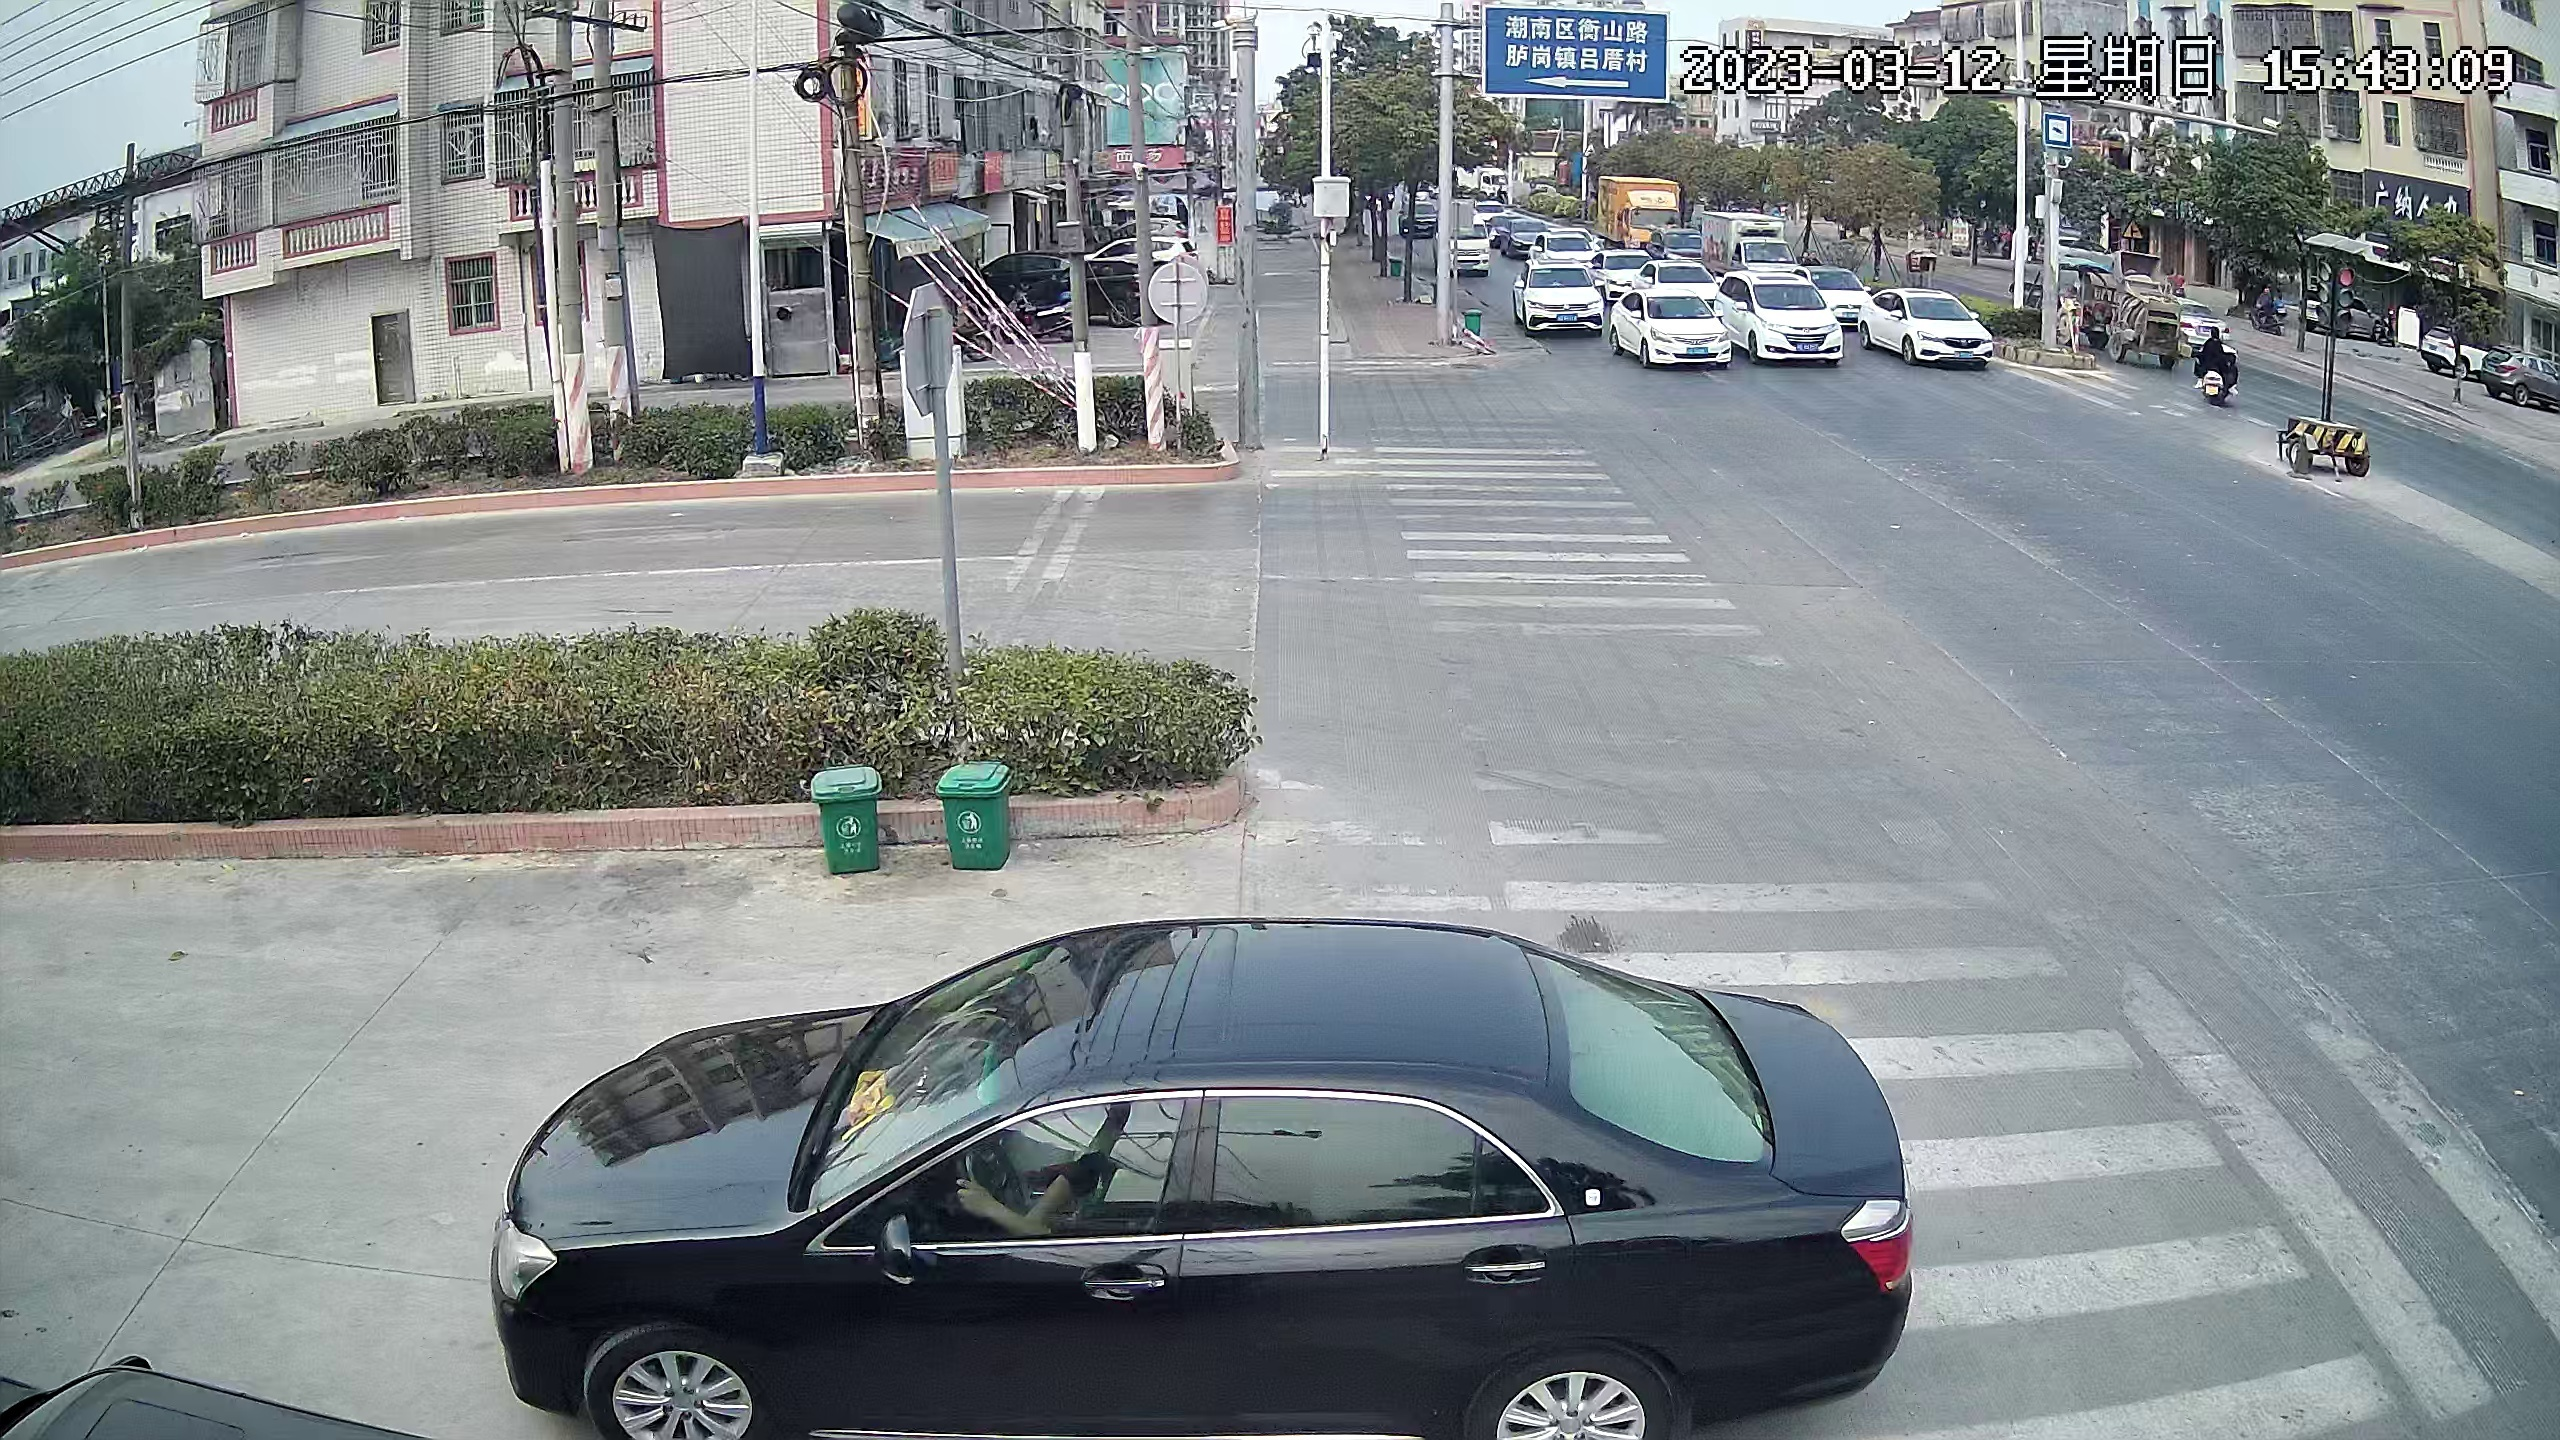bus: (1431, 213, 1489, 283)
motorcycle: (1000, 297, 1083, 343), (2200, 325, 2238, 413)
sedan: (496, 923, 1918, 1424), (2, 1340, 498, 1440), (1864, 288, 1996, 367), (1619, 288, 1725, 375), (1081, 264, 1167, 324), (1088, 239, 1203, 267), (2309, 288, 2370, 339), (1531, 229, 1589, 258), (1605, 253, 1655, 274)
suv: (1732, 273, 1843, 373), (1514, 264, 1607, 339), (2477, 348, 2560, 411), (2419, 320, 2486, 378)
tricycle: (2024, 253, 2110, 345)
truck: (1700, 207, 1790, 271), (2119, 267, 2171, 366), (1604, 178, 1681, 244)
